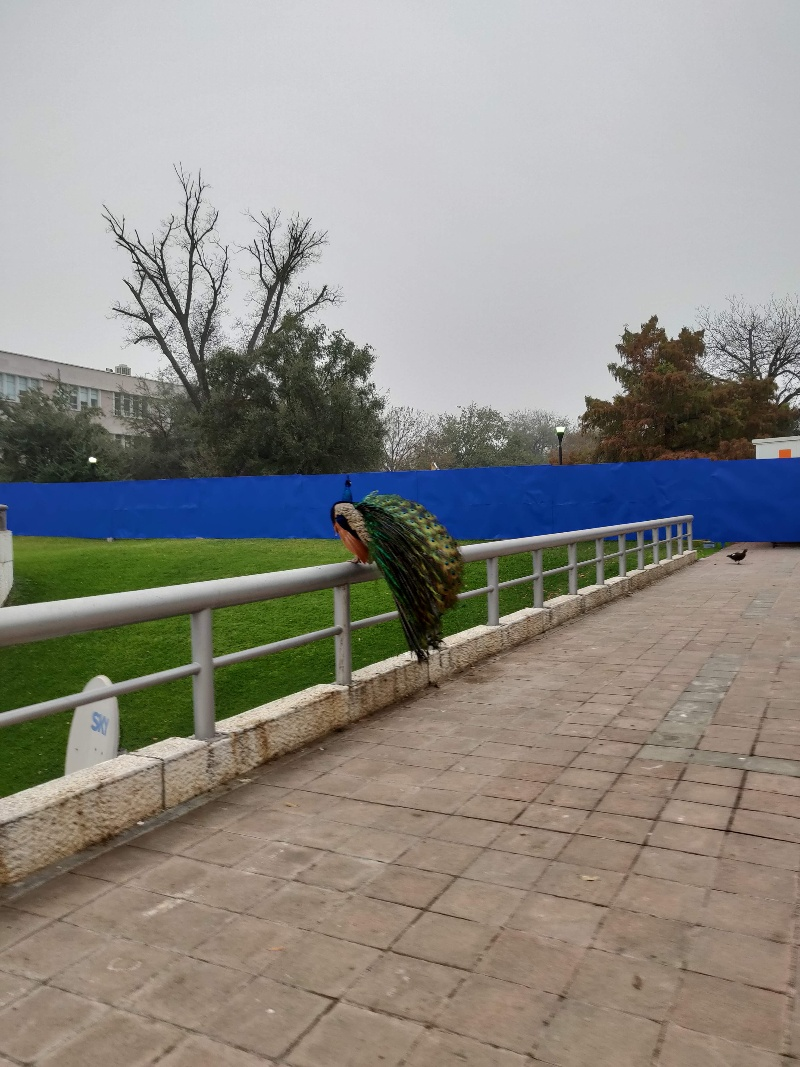pavoreal: (327, 492, 372, 561)
